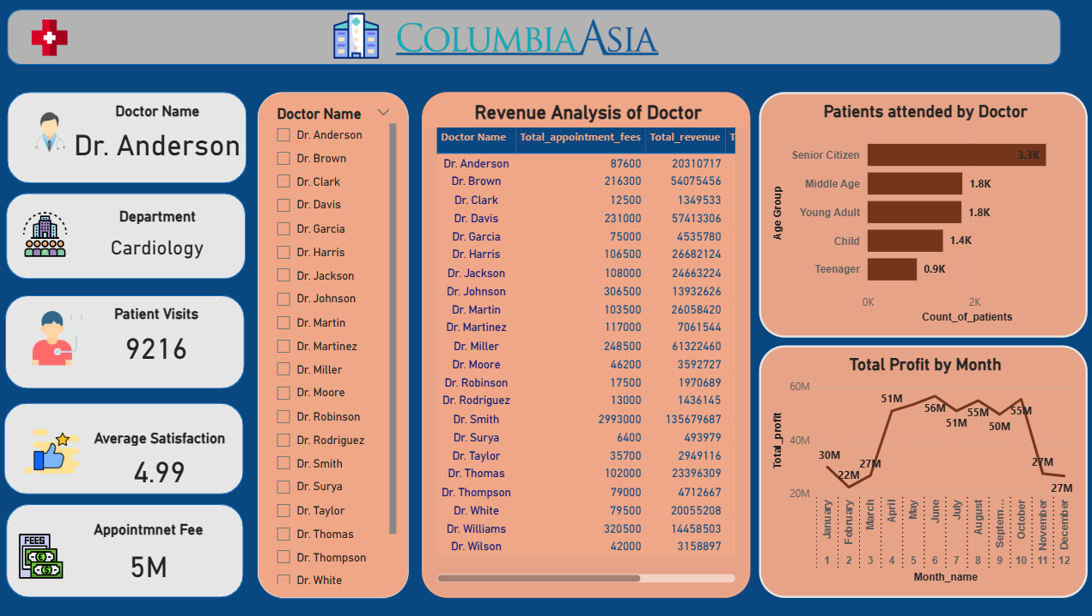

Layout of this report page (visuals, bound fields, positions):
{"tool":"powerbi","page":{"name":"Doctor","canvas":[1280,720],"ordinal":1},"visuals":[{"type":"shape","box":[0,0,1278.8,720],"z":0},{"type":"shape","box":[12.5,111.2,278.8,105],"z":1000},{"type":"shape","box":[8.8,468.8,278.8,105],"z":2000},{"type":"shape","box":[12.5,16.2,1226.2,63.8],"z":3000},{"type":"image","box":[405,8.8,425,80],"z":4000},{"type":"shape","box":[11.2,585,276.2,107.5],"z":5000},{"type":"lineChart","title":"Total Profit by Month","fields":{"Y":["All measures.Total_profit"],"Category":["Hospital Info.Month_no","Hospital Info.Month_name"]},"box":[887.5,402.5,382.5,290],"z":6000},{"type":"barChart","title":"Patients attended by Doctor ","fields":{"Category":["Hospital Info.Age Group"],"Y":["All measures.Count_of_patients"]},"box":[887.5,111.2,382.5,282.5],"z":7000},{"type":"tableEx","title":"Revenue Analysis of Doctor","fields":{"Values":["Doctor Info.Doctor Name","All measures.Total_appointment_fees","All measures.Total_revenue","All measures.Total_profit","All measures.Profit_percent"]},"box":[495,111.2,382.5,581.2],"z":8000},{"type":"slicer","fields":{"Values":["Doctor Info.Doctor Name"]},"box":[303.8,111.2,176.2,581.2],"z":9000},{"type":"card","title":"Doctor Name ","fields":{"Values":["Doctor Info.Doctor Name"]},"box":[71.2,122.5,232.5,75],"z":10000},{"type":"card","title":"Average Satisfaction ","fields":{"Values":["All measures.Average_satisfaction_score"]},"box":[92.5,498.8,195,75],"z":11000},{"type":"shape","box":[11.2,227.5,278.8,98.8],"z":12000},{"type":"card","title":"Appointmnet Fee","fields":{"Values":["All measures.Total_appointment_fees"]},"box":[90,603.8,173.8,82.5],"z":13000},{"type":"card","title":"Department","fields":{"Values":["Doctor Info.department_referral"]},"box":[68.8,243.8,237.5,72.5],"z":14000},{"type":"shape","box":[10,345,278.8,107.5],"z":15000},{"type":"card","title":"Patient Visits","fields":{"Values":["All measures.Count_of_patients"]},"box":[101.2,356.2,170,75],"z":16000},{"type":"image","box":[36.2,20,51.2,57.5],"z":17000},{"type":"image","box":[387.5,13.8,62.5,66.2],"z":18000},{"type":"image","box":[31.2,126.2,61.2,65],"z":19000},{"type":"image","box":[23.8,243.8,66.2,62.5],"z":20000},{"type":"image","box":[31.2,356.2,83.8,76.2],"z":21000},{"type":"image","box":[27.5,487.5,73.8,73.8],"z":22000},{"type":"image","box":[17.5,613.8,68.8,62.5],"z":23000}]}

Visuals, with their boxes in screenshot pixels (x1, y1, x2, y2), scaled from the page's 1280x720 canvas onto the 1092x616 screenshot:
shape: [x1=0, y1=0, x2=1091, y2=615]
shape: [x1=11, y1=95, x2=249, y2=185]
shape: [x1=8, y1=401, x2=245, y2=491]
shape: [x1=11, y1=14, x2=1057, y2=68]
image: [x1=346, y1=8, x2=708, y2=76]
shape: [x1=10, y1=500, x2=245, y2=592]
"Total Profit by Month" lineChart: [x1=757, y1=344, x2=1083, y2=592]
"Patients attended by Doctor " barChart: [x1=757, y1=95, x2=1083, y2=337]
"Revenue Analysis of Doctor" tableEx: [x1=422, y1=95, x2=749, y2=592]
slicer - Doctor Info.Doctor Name: [x1=259, y1=95, x2=410, y2=592]
"Doctor Name " card: [x1=61, y1=105, x2=259, y2=169]
"Average Satisfaction " card: [x1=79, y1=427, x2=245, y2=491]
shape: [x1=10, y1=195, x2=247, y2=279]
"Appointmnet Fee" card: [x1=77, y1=517, x2=225, y2=587]
"Department" card: [x1=59, y1=209, x2=261, y2=271]
shape: [x1=9, y1=295, x2=246, y2=387]
"Patient Visits" card: [x1=86, y1=305, x2=231, y2=369]
image: [x1=31, y1=17, x2=75, y2=66]
image: [x1=331, y1=12, x2=384, y2=68]
image: [x1=27, y1=108, x2=79, y2=164]
image: [x1=20, y1=209, x2=77, y2=262]
image: [x1=27, y1=305, x2=98, y2=370]
image: [x1=23, y1=417, x2=86, y2=480]
image: [x1=15, y1=525, x2=74, y2=579]
